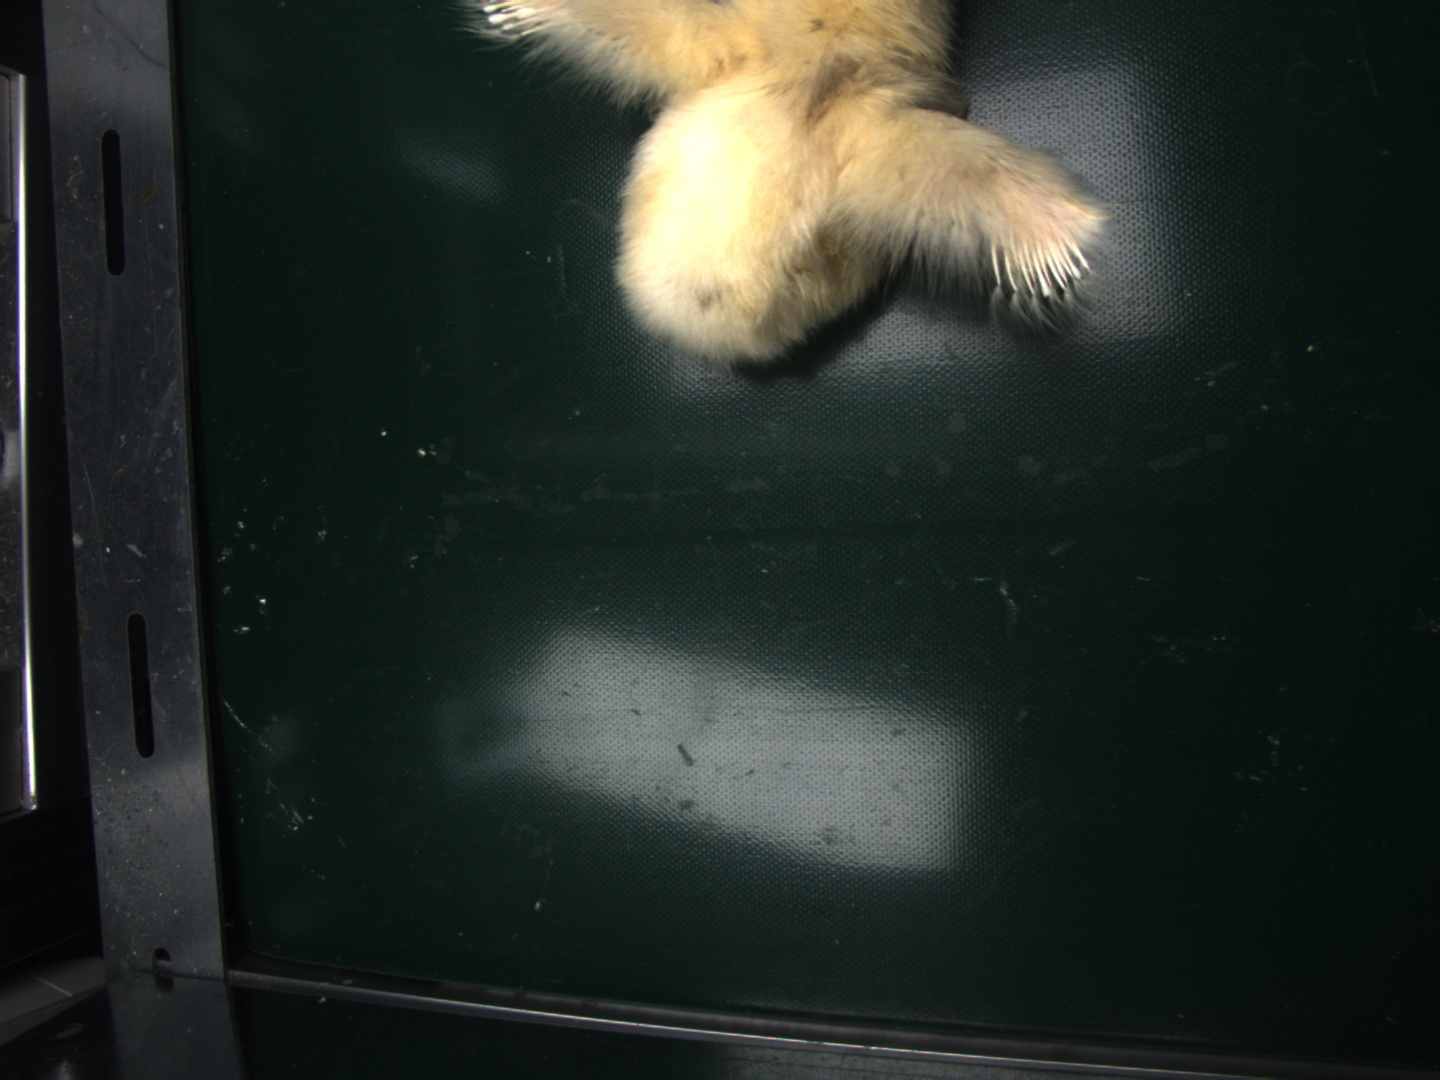male: (997, 234, 1096, 304)
